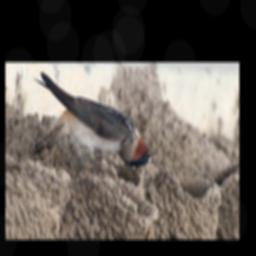Swallow: (29, 71, 160, 167)
